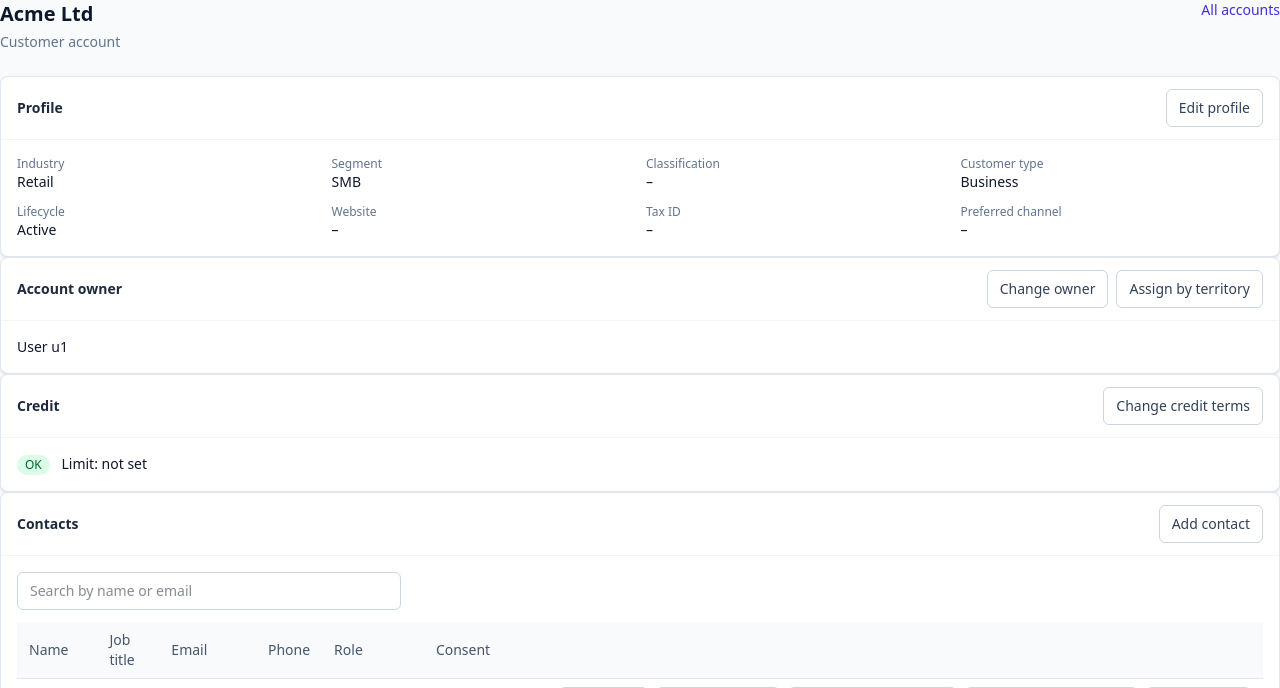
Test case: AccountDetailPage › credit terms need the assign permission, a reason when restricting, and a sane limit
Later steps or results of the test are not shown.
Click the button "Change credit terms" at (1183, 406), box 1103,387 -> 1263,425
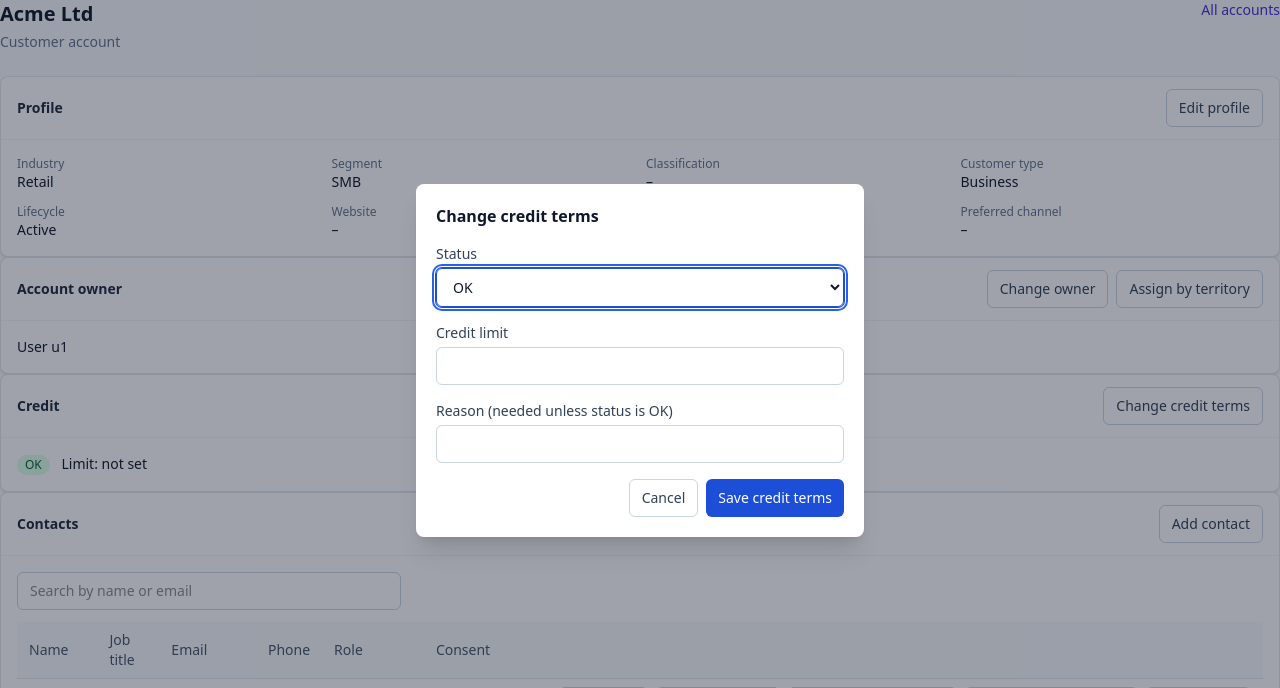
Select "On hold" in the dropdown labelled "Status" at (640, 287), box 436,268 -> 844,306
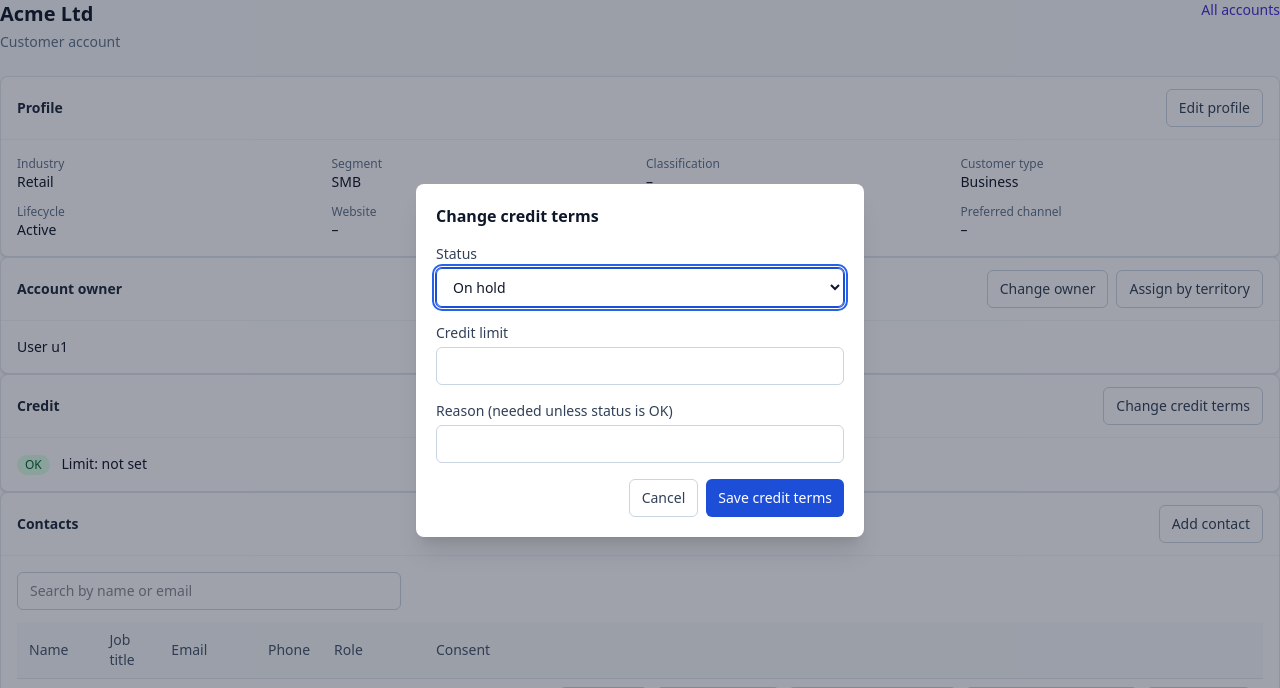
Click the button "Save credit terms" at (775, 498), box 706,478 -> 844,516
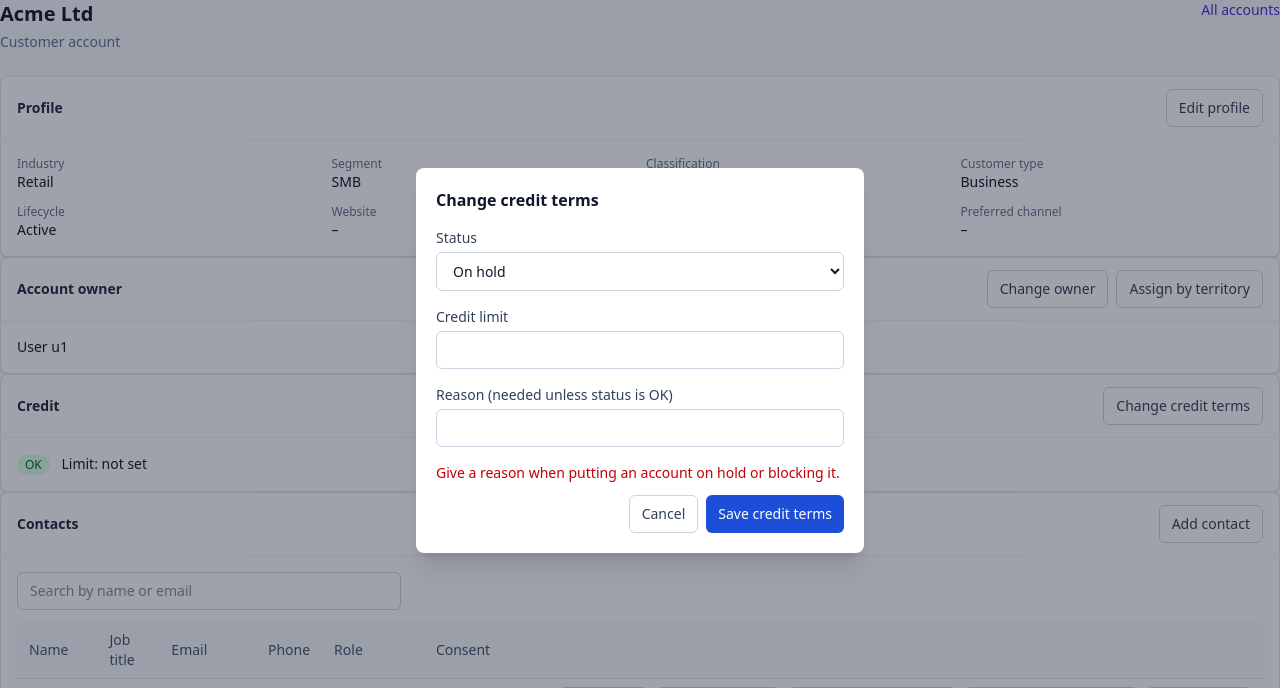
Expected: the message shows "Give a reason", 436,462 -> 840,482
Type "Overdue invoices" into the field labelled "Reason (needed unless status is OK)" at (640, 428), box 436,408 -> 844,446
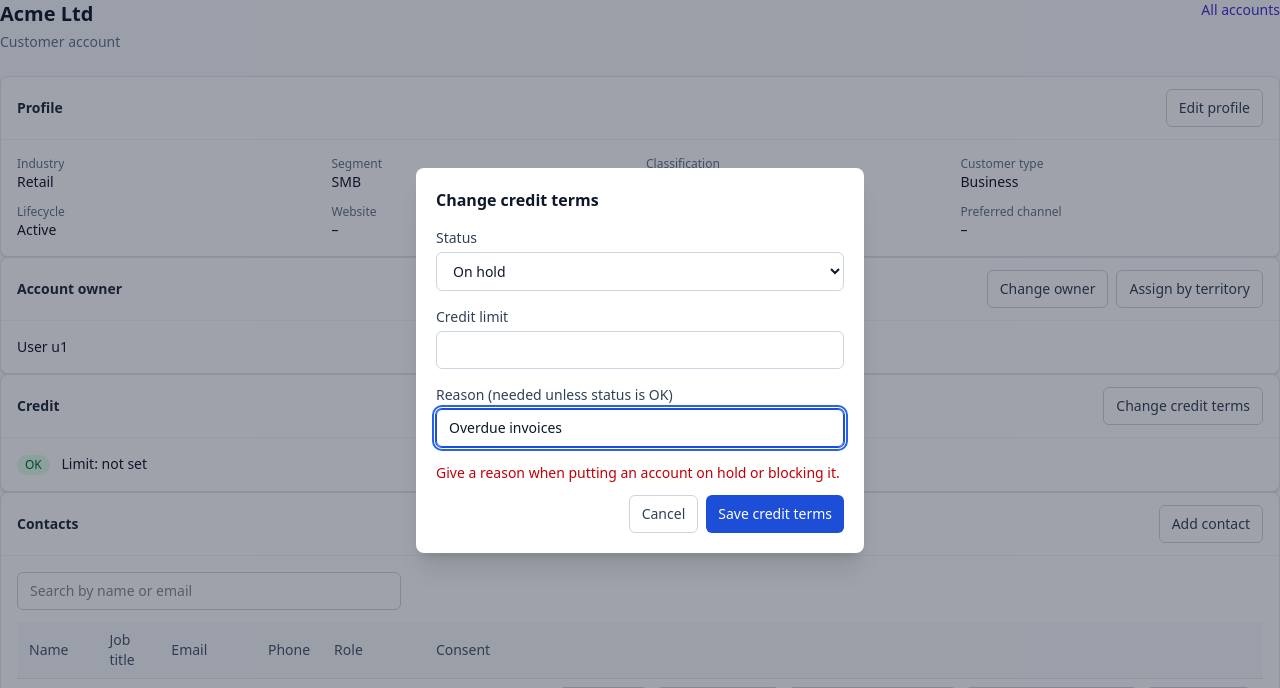
Type "-5" into the field labelled "Credit limit" at (640, 350), box 436,330 -> 844,368
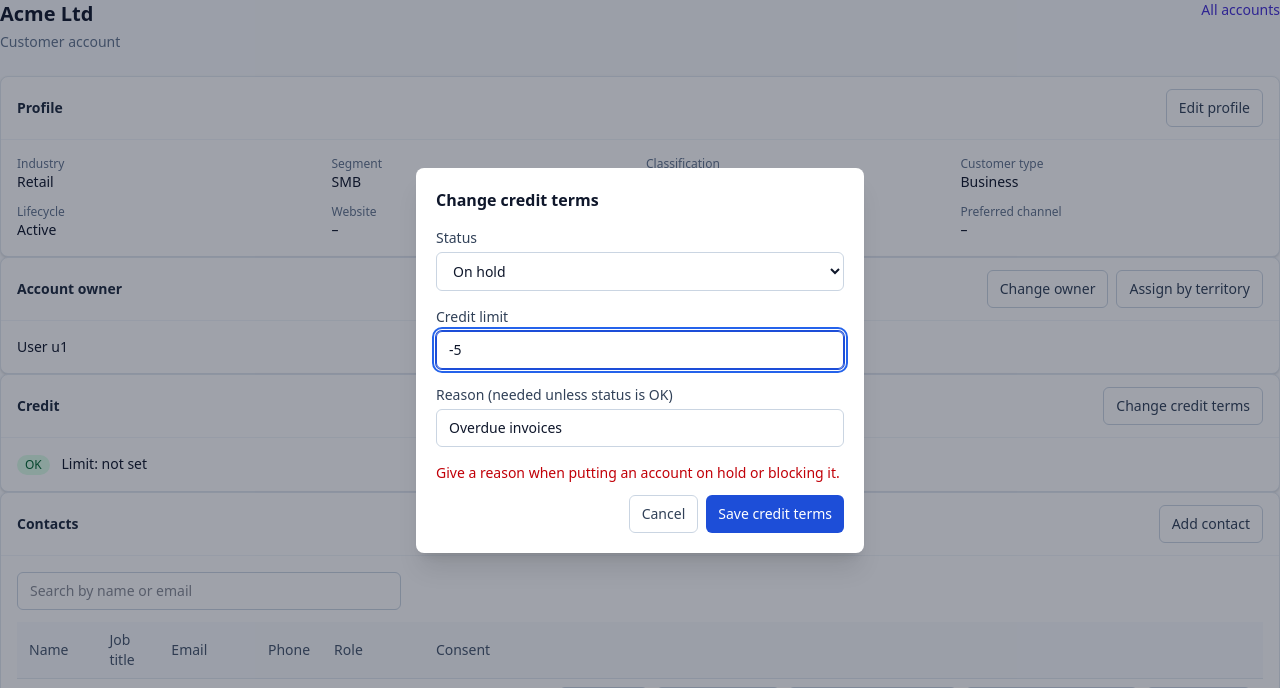
Click the button "Save credit terms" at (775, 514), box 706,494 -> 844,532
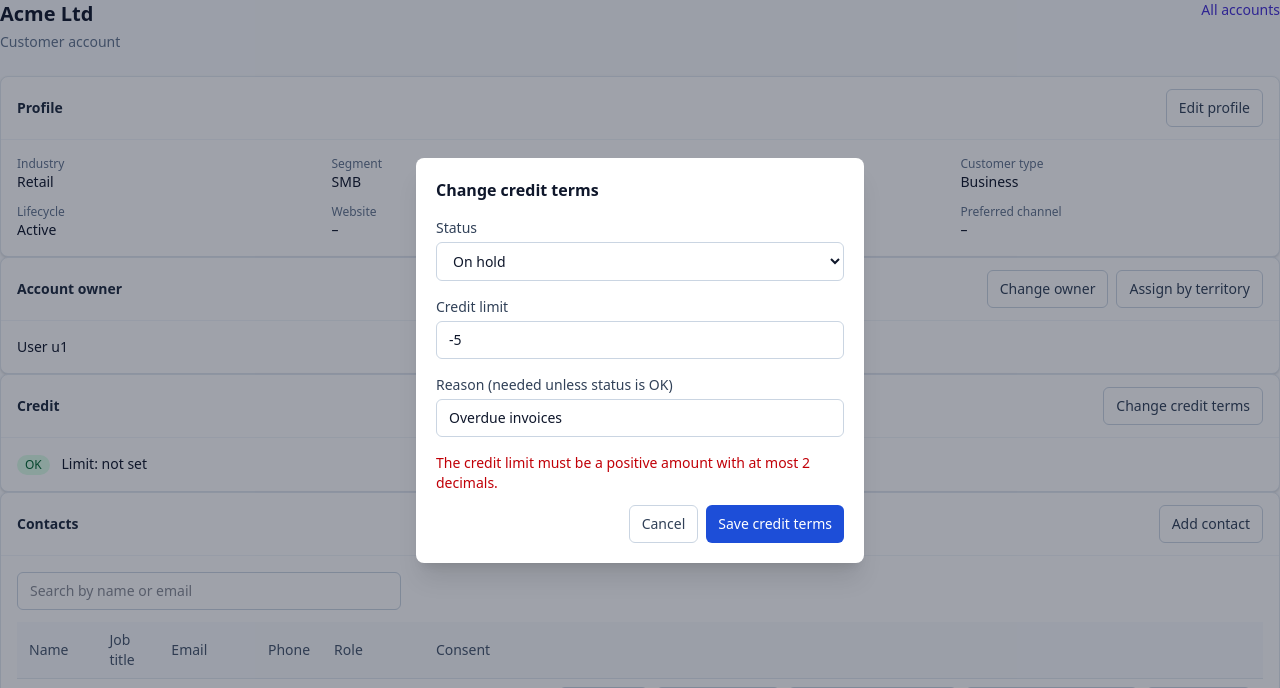
Expected: the message shows "positive amount", 436,452 -> 810,492
